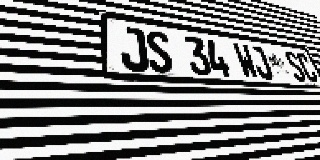3: (183, 35, 213, 76)
4: (203, 38, 232, 77)
C: (294, 52, 320, 83)
J: (119, 26, 150, 72), (248, 45, 275, 80)
S: (144, 30, 175, 74), (283, 50, 308, 82)
W: (232, 43, 260, 79)
